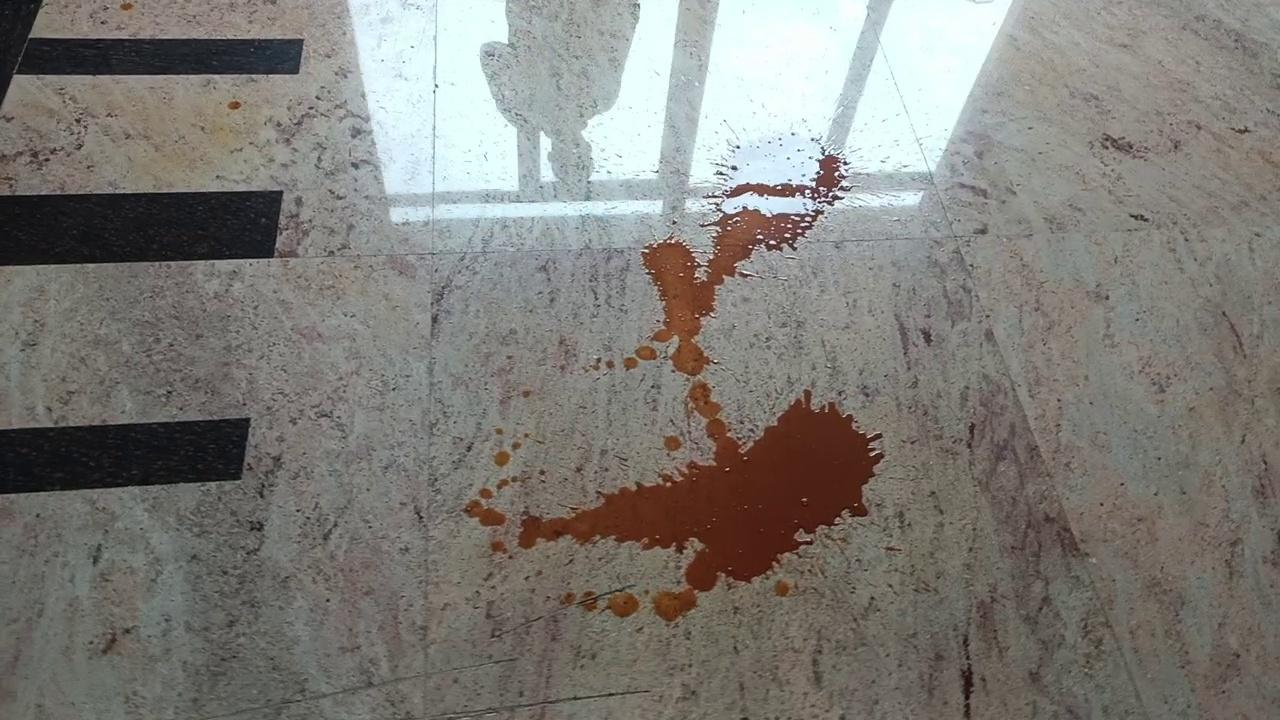dirty_floor: (466, 130, 881, 619)
